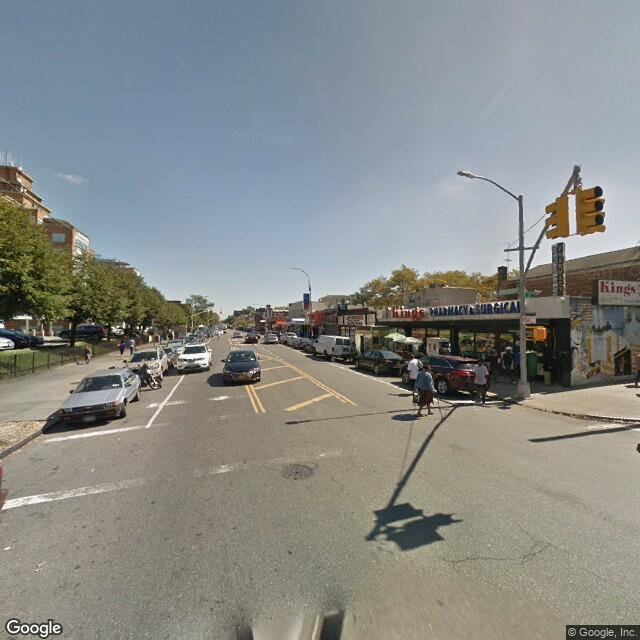litter: (3, 545, 14, 552)
